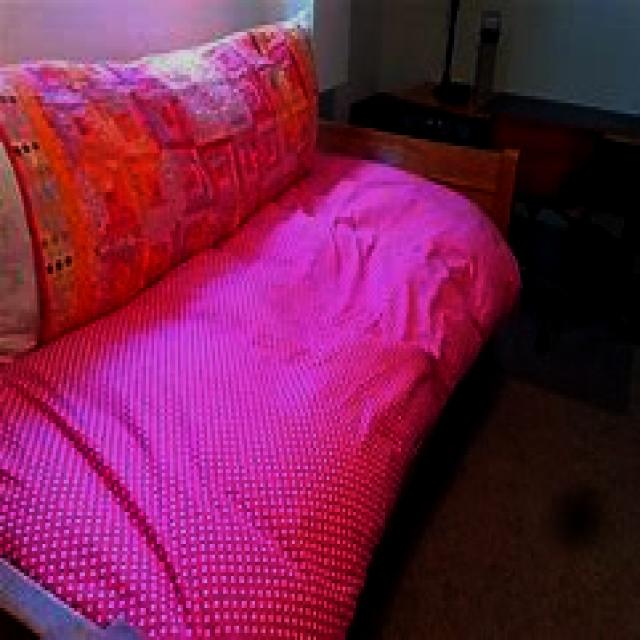bed: (0, 12, 510, 640)
